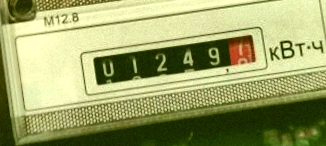0: (99, 56, 115, 78)
1: (125, 53, 140, 75)
2: (150, 50, 169, 74)
4: (179, 46, 195, 67)
7: (232, 35, 248, 57)
9: (205, 44, 221, 67)
screen: (75, 21, 271, 98)
